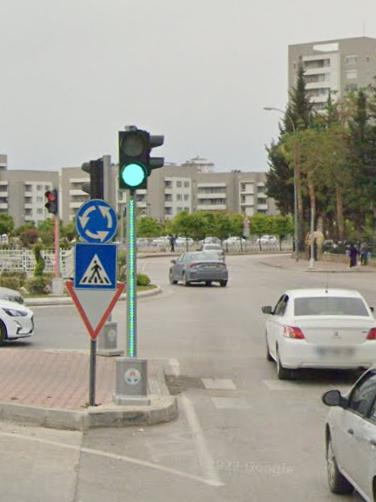crossroads: (75, 199, 116, 241)
greenlight: (117, 128, 151, 191)
